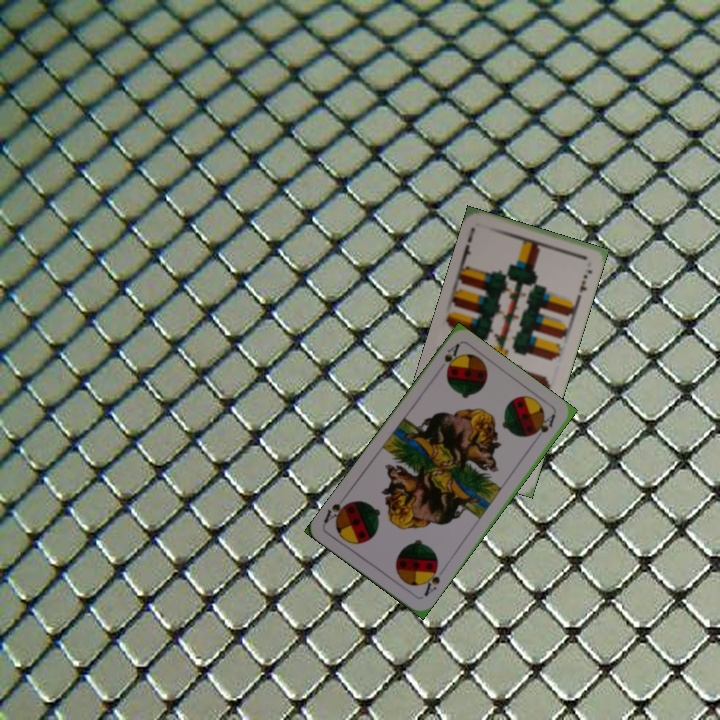E7: (458, 223, 478, 263)
SA: (419, 561, 443, 599), (440, 340, 462, 376)
